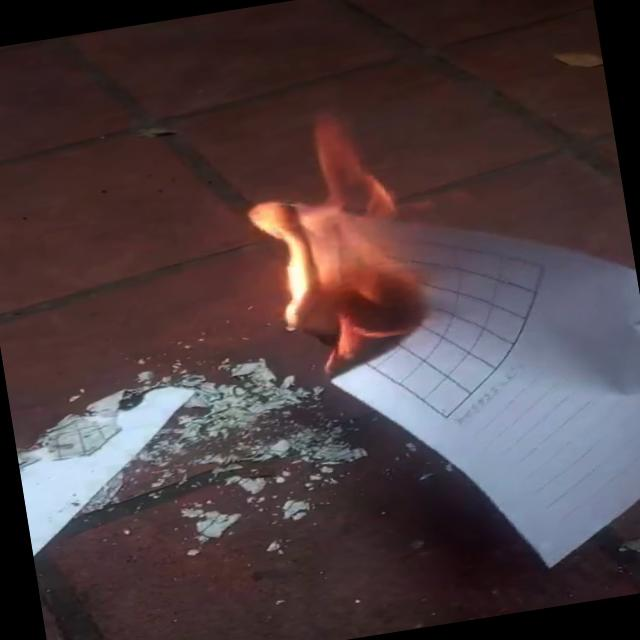Fire_Dangerous: (216, 109, 428, 385)
